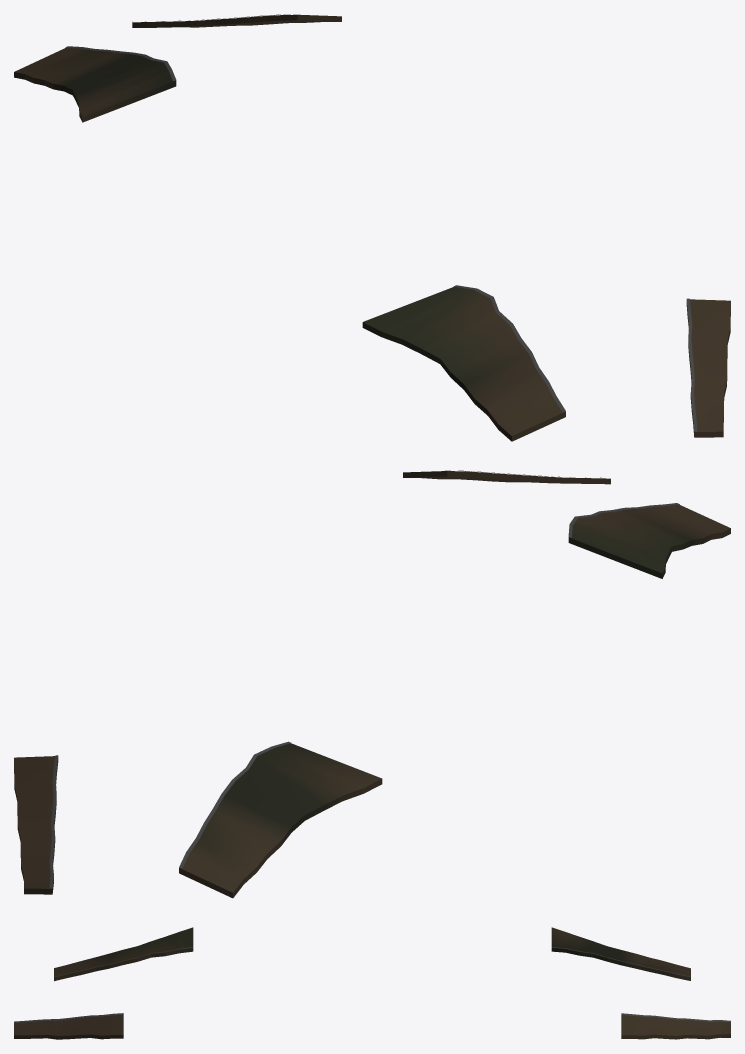
Rendered from fh_mech_attacker_t4.glb.
3 views of the same model, one above another, from view 1: azimuth 30°, elevation 25°; view 2: azimuth 150°, elevation 25°; view 3: azimuth 270°, elevation 25° (orthographic). The views are drawn at different scales.
Visible parts, largest first — view 1: flap_r, flap_l, slat_r, slat_l; view 2: flap_l, flap_r, slat_l, slat_r; view 3: slat_r, slat_l, flap_r, flap_l.
Part boxes in pixels (x1,y1,x2,y2): flap_r: (362, 285, 565, 441); flap_l: (14, 46, 176, 122); slat_r: (686, 298, 730, 437); slat_l: (132, 14, 341, 27); flap_l: (179, 741, 382, 898); flap_r: (568, 503, 730, 578); slat_l: (14, 755, 58, 894); slat_r: (403, 470, 610, 484); slat_r: (14, 1013, 123, 1039); slat_l: (621, 1013, 730, 1039); flap_r: (54, 927, 193, 981); flap_l: (551, 927, 690, 980).
Size of the model in its own units: 0.233 by 0.0588 by 0.72.
